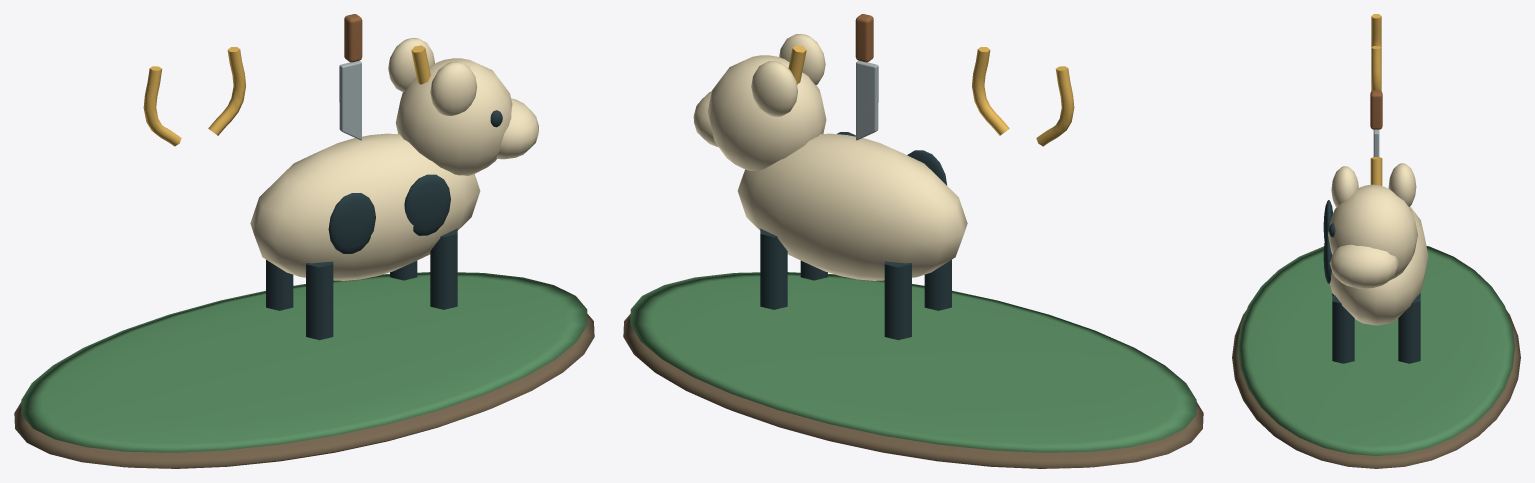
The model's file is half-cow-cake.glb.
3 renders of one model, left to right at view 1: azimuth 30°, elevation 25°; view 2: azimuth 150°, elevation 25°; view 3: azimuth 270°, elevation 25°, orthographic. The views are drawn at different scales.
Parts seen in each view (by area): view 1: half-cow-cake_surface_01, half-cow-cake_surface_03, half-cow-cake_surface_00, half-cow-cake_surface_04, half-cow-cake_surface_02, half-cow-cake_surface_06, half-cow-cake_surface_05; view 2: half-cow-cake_surface_01, half-cow-cake_surface_03, half-cow-cake_surface_00, half-cow-cake_surface_04, half-cow-cake_surface_02, half-cow-cake_surface_06, half-cow-cake_surface_05; view 3: half-cow-cake_surface_01, half-cow-cake_surface_03, half-cow-cake_surface_00, half-cow-cake_surface_04, half-cow-cake_surface_02, half-cow-cake_surface_05.
Part boxes in pixels (<box>): half-cow-cake_surface_01: <box>21,272,587,452</box>; half-cow-cake_surface_03: <box>250,38,538,280</box>; half-cow-cake_surface_00: <box>14,314,594,468</box>; half-cow-cake_surface_04: <box>266,110,502,340</box>; half-cow-cake_surface_02: <box>143,45,430,146</box>; half-cow-cake_surface_06: <box>339,60,361,140</box>; half-cow-cake_surface_05: <box>344,14,362,62</box>; half-cow-cake_surface_01: <box>630,272,1196,452</box>; half-cow-cake_surface_03: <box>693,34,967,280</box>; half-cow-cake_surface_00: <box>623,314,1203,468</box>; half-cow-cake_surface_04: <box>760,132,951,340</box>; half-cow-cake_surface_02: <box>788,45,1074,146</box>; half-cow-cake_surface_06: <box>856,60,878,140</box>; half-cow-cake_surface_05: <box>855,14,873,62</box>; half-cow-cake_surface_01: <box>1237,246,1515,455</box>; half-cow-cake_surface_03: <box>1328,163,1428,325</box>; half-cow-cake_surface_00: <box>1232,310,1520,468</box>; half-cow-cake_surface_04: <box>1323,200,1420,363</box>; half-cow-cake_surface_02: <box>1370,14,1382,185</box>; half-cow-cake_surface_05: <box>1370,90,1382,129</box>.
Size of the model in its own units: 4.56 by 2.85 by 2.5.
